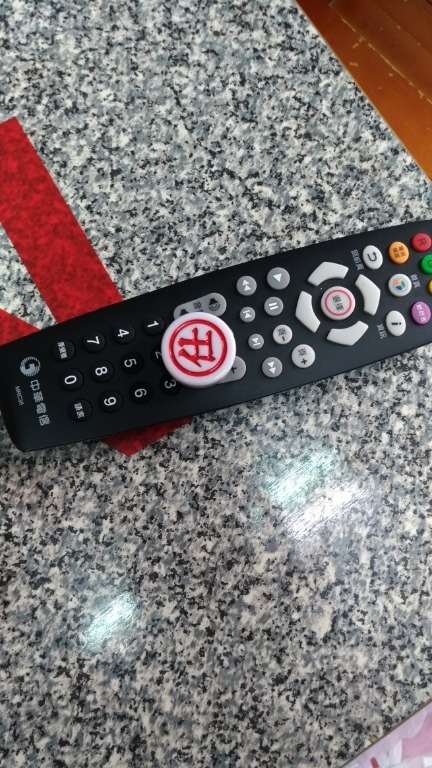r-advisor: (153, 307, 256, 395)
